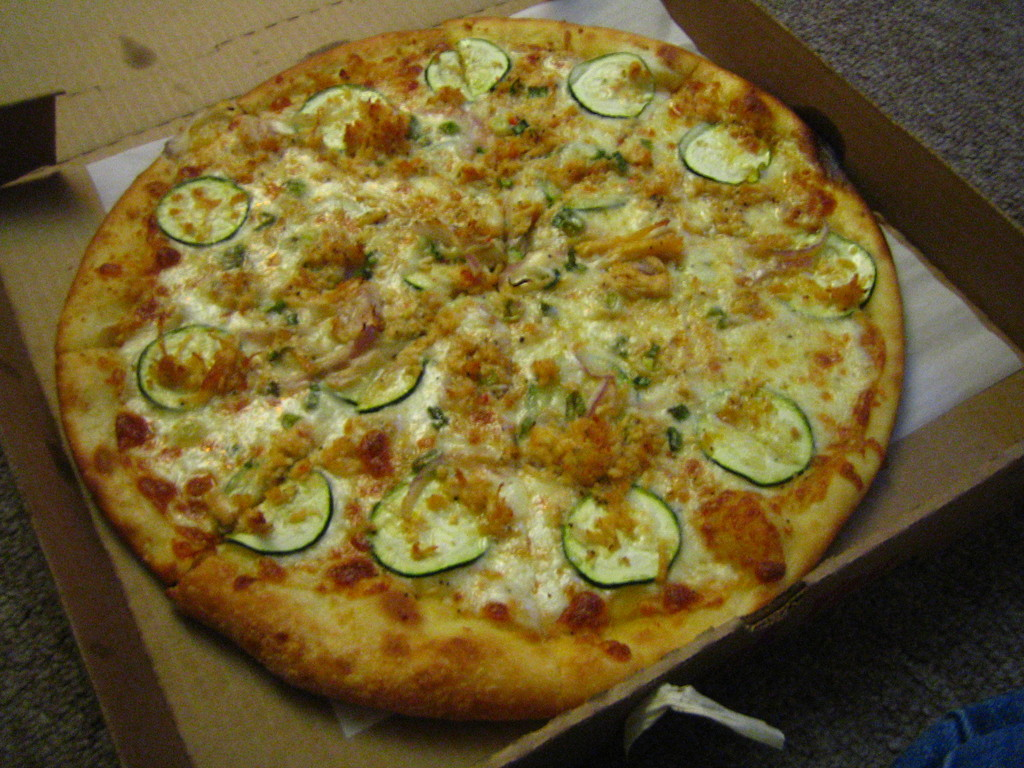Pizza: (38, 42, 881, 753)
